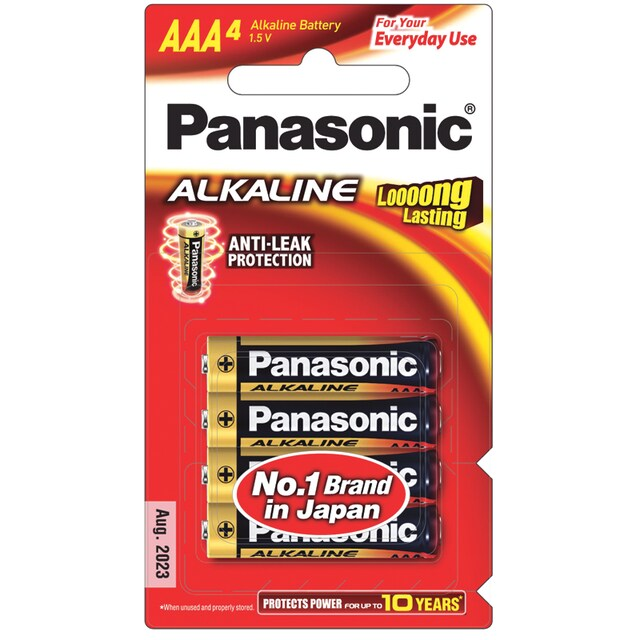Battery: (198, 333, 444, 397), (196, 504, 446, 563), (198, 394, 444, 449)
